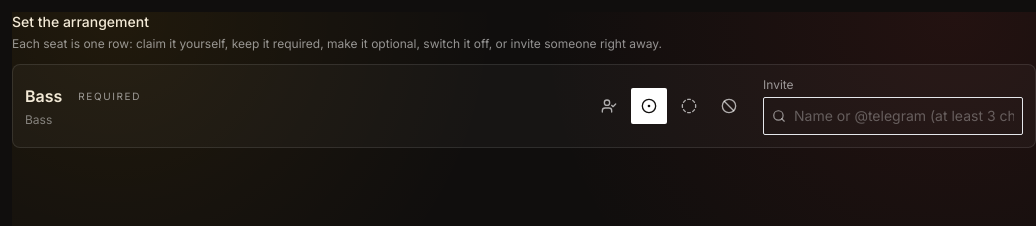
Scenario: SeatPlannerField › fetches invitation suggestions by typing while proposing a track
Focus the dropdown named "Invite Bass": (904, 116) [794,98,1014,134]
In the dropdown named "Invite Bass": (904, 116) [794,98,1014,134], type "boris"
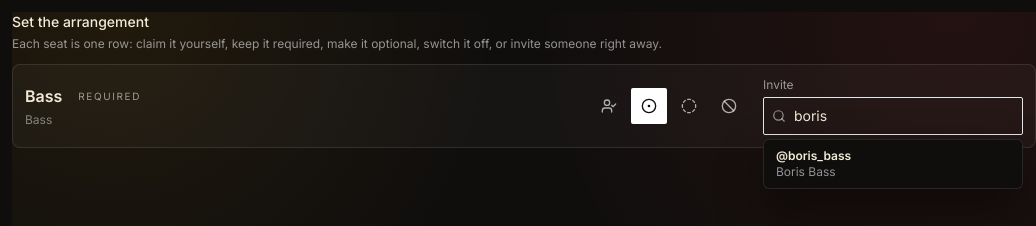
Now the option "@boris_bass Boris Bass" is shown
Click the option "@boris_bass Boris Bass": (893, 164) [764,140,1022,188]
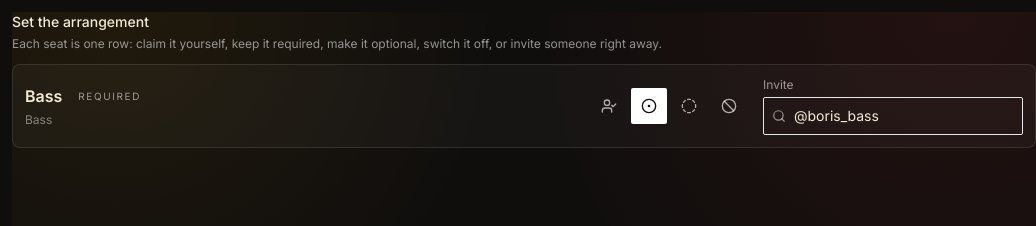
Expected: the element named "inviteSeatRequests" holds "Bass:1|user-boris", [12,12,1035,148]
Now the dropdown named "Invite Bass" holds "@boris_bass", box [794,98,1014,134]
